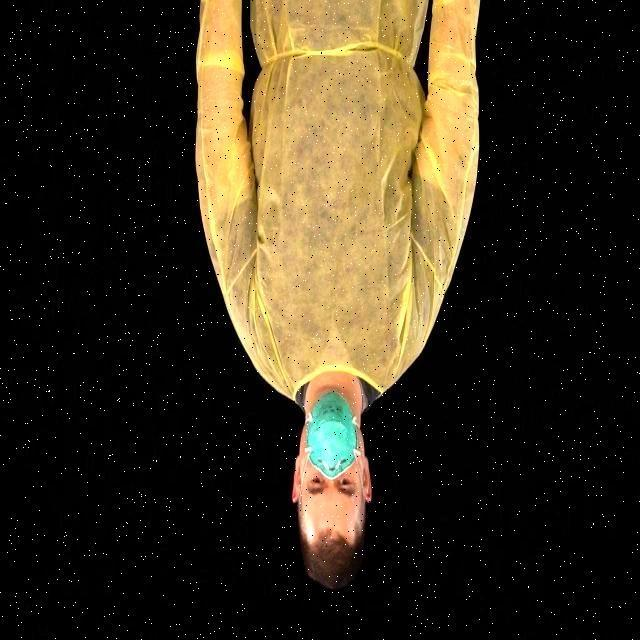mask: (308, 400, 368, 477)
no_gloves: (294, 521, 376, 598)
